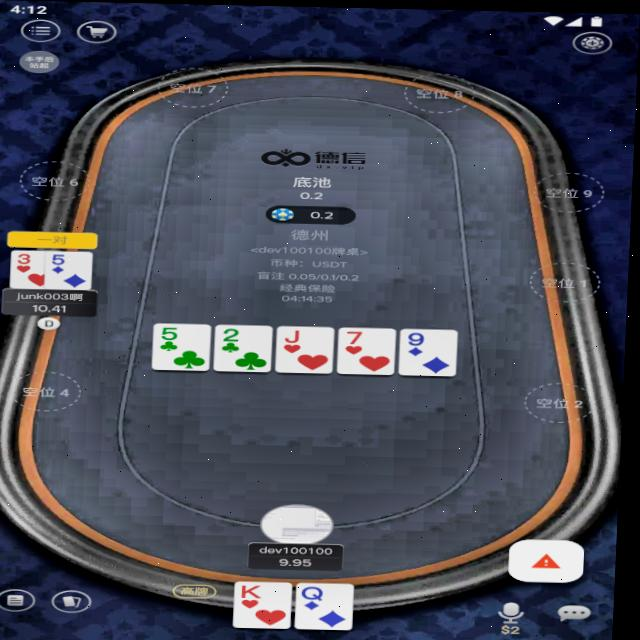2m: (223, 326, 248, 343)
3h: (16, 252, 37, 266)
5f: (52, 252, 70, 265)
5m: (161, 325, 185, 341)
7h: (344, 327, 368, 345)
9f: (407, 329, 432, 346)
Jh: (285, 326, 307, 343)
Kh: (245, 582, 269, 599)
Qf: (305, 584, 333, 600)
